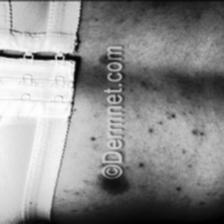Toxin: (94, 171, 128, 194), (97, 51, 117, 67)
